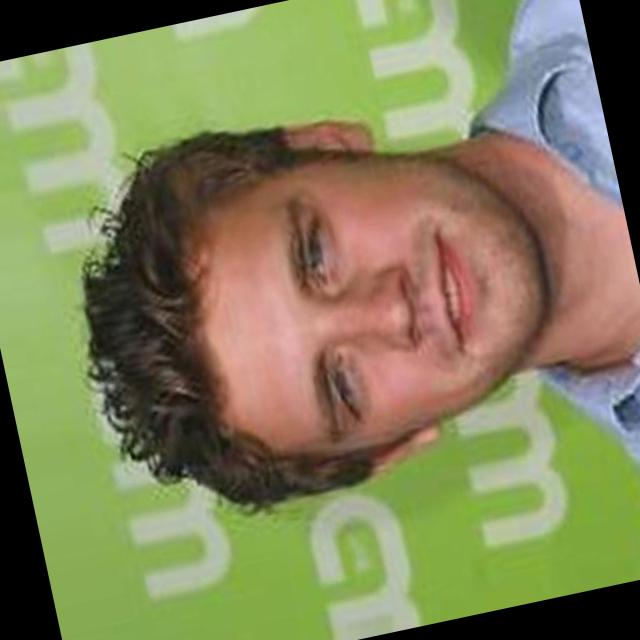bareface: (74, 77, 574, 537)
